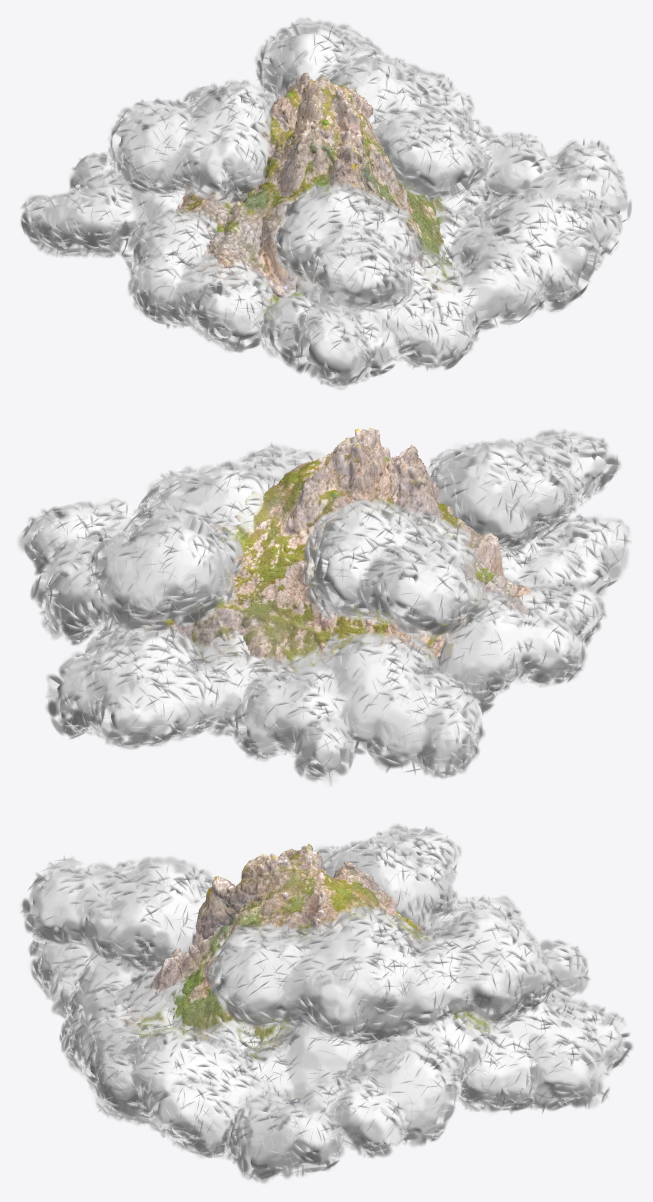
Rendered from cloudy_mountain1.glb.
3 views of the same model, one above another, from view 1: azimuth 30°, elevation 25°; view 2: azimuth 150°, elevation 25°; view 3: azimuth 270°, elevation 25° (orthographic). The views are drawn at different scales.
Parts seen in each view (by area): view 1: cloudssssssssssssssss13objcleanermaterialmergergles; view 2: cloudssssssssssssssss13objcleanermaterialmergergles; view 3: cloudssssssssssssssss13objcleanermaterialmergergles.
Boxes of the visible parts, x1,y1,x2,y2 form: cloudssssssssssssssss13objcleanermaterialmergergles: [18, 17, 631, 389]; cloudssssssssssssssss13objcleanermaterialmergergles: [17, 427, 632, 786]; cloudssssssssssssssss13objcleanermaterialmergergles: [19, 823, 632, 1183].
Bounding box in the file's own units: 74.41 × 31.25 × 77.59.
3 materials, 2 textured.
